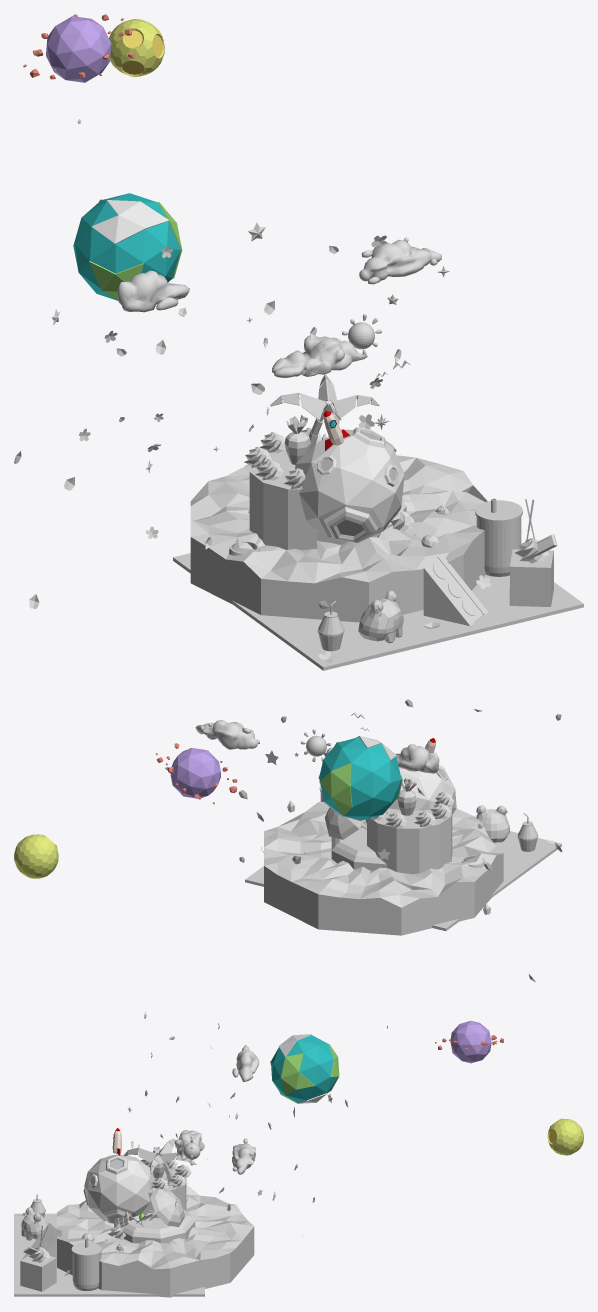
File: models.glb
3 views of the same model, one above another, from view 1: azimuth 30°, elevation 25°; view 2: azimuth 150°, elevation 25°; view 3: azimuth 270°, elevation 25° (orthographic). The views are drawn at different scales.
Visible parts, largest first — view 1: water, planets, moon, cloud, cream1_in, white, red1_clip, cream1_out, green2, boba_cup, dark_green, pink_in (+3 smaller); view 2: water, planets, cream1_in, cloud, moon, sand, white, green2, red1_clip, red, cream, cream1_out (+2 smaller); view 3: water, planets, moon, cloud, white, sand, cream1_in, boba_cup, green2, red1_clip, dark_green, cream (+4 smaller).
Boxes of the visible parts, x1,y1,x2,y2 form: water: (190, 455, 487, 622); planets: (23, 14, 182, 300); moon: (295, 427, 404, 542); cloud: (117, 237, 441, 378); cream1_in: (244, 427, 449, 550); white: (173, 557, 583, 670); red1_clip: (173, 553, 583, 659); cream1_out: (318, 553, 487, 651); green2: (358, 538, 553, 641); boba_cup: (475, 500, 522, 576); dark_green: (270, 375, 379, 439); pink_in: (14, 235, 401, 609); water: (264, 802, 503, 935); planets: (14, 736, 402, 878); cream1_in: (367, 791, 453, 874); cloud: (195, 720, 439, 773); moon: (389, 765, 456, 814); sand: (331, 822, 386, 870); white: (245, 831, 561, 931); green2: (476, 805, 509, 842); red1_clip: (260, 831, 546, 928); red: (324, 810, 366, 839); cream: (325, 712, 369, 839); cream1_out: (518, 825, 537, 851); water: (57, 1184, 254, 1297); planets: (270, 1020, 583, 1155); moon: (83, 1154, 154, 1223); cloud: (174, 1045, 259, 1174); white: (14, 1213, 204, 1296); sand: (114, 1209, 195, 1243); cream1_in: (108, 1159, 191, 1251); boba_cup: (71, 1242, 101, 1290); green2: (20, 1207, 56, 1291); red1_clip: (14, 1213, 180, 1294); dark_green: (123, 1139, 195, 1190); cream: (131, 1141, 184, 1226).
Bounding box in the file's own units: 9.65 × 8.2 × 17.3.
